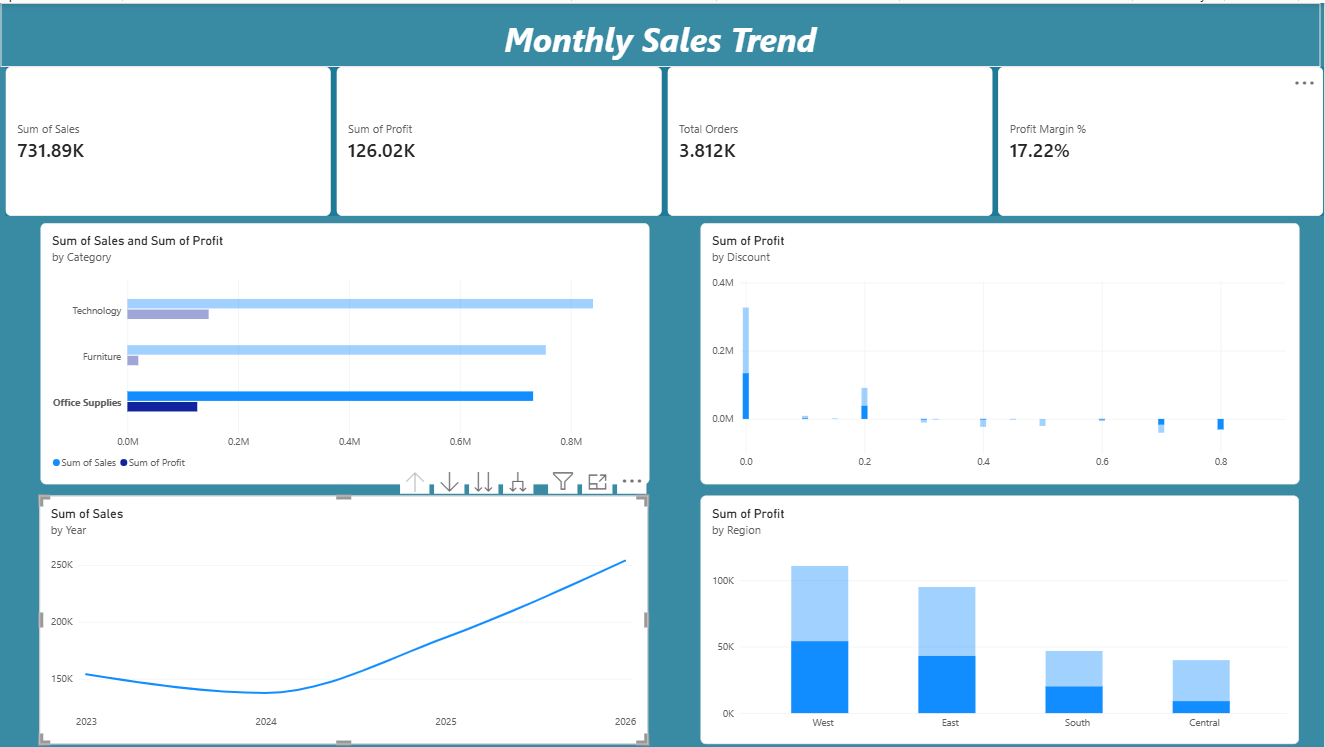

Layout of this report page (visuals, bound fields, positions):
{"tool":"powerbi","page":{"name":"Page 1","canvas":[1920,1080],"ordinal":0},"visuals":[{"type":"cardVisual","fields":{"Data":["Sum(orders.Sales)","Sum(orders.Profit)","orders.Total Orders","orders.Profit Margin %"]},"box":[10.3,92.6,1910.1,216.1],"z":0},{"type":"clusteredBarChart","fields":{"Category":["orders.Category"],"Y":["Sum(orders.Sales)","Sum(orders.Profit)"]},"box":[61.5,318.5,881.3,378.2],"z":1000},{"type":"clusteredColumnChart","fields":{"Category":["orders.Region"],"Y":["Sum(orders.Profit)"]},"box":[1016.8,712.2,866.6,360.2],"z":2000},{"type":"clusteredColumnChart","fields":{"Category":["orders.Discount"],"Y":["Sum(orders.Profit)"]},"box":[1017,318.5,866.8,378.2],"z":3000},{"type":"lineChart","fields":{"Category":["orders.Order_Date.Variation.Date Hierarchy.Year","orders.Order_Date.Variation.Date Hierarchy.Quarter","orders.Order_Date.Variation.Date Hierarchy.Month","orders.Order_Date.Variation.Date Hierarchy.Day"],"Y":["Sum(orders.Sales)"]},"box":[59.7,713,881.3,360.1],"z":4000},{"type":"textbox","box":[4.1,0,1910.1,92.6],"z":5000}]}

Visuals, with their boxes in screenshot pixels (x1, y1, x2, y2), scaled from the page's 1920x1080 canvas onto the 1325x747 screenshot:
cardVisual - Sum(orders.Sales) x Sum(orders.Profit): {"left": 7, "top": 64, "right": 1324, "bottom": 214}
clusteredBarChart - orders.Category x Sum(orders.Sales): {"left": 42, "top": 220, "right": 651, "bottom": 482}
clusteredColumnChart - orders.Region x Sum(orders.Profit): {"left": 702, "top": 493, "right": 1300, "bottom": 742}
clusteredColumnChart - orders.Discount x Sum(orders.Profit): {"left": 702, "top": 220, "right": 1300, "bottom": 482}
lineChart - orders.Order_Date.Variation.Date Hierarchy.Year x orders.Order_Date.Variation.Date Hierarchy.Quarter: {"left": 41, "top": 493, "right": 649, "bottom": 742}
textbox: {"left": 3, "top": 0, "right": 1321, "bottom": 64}
